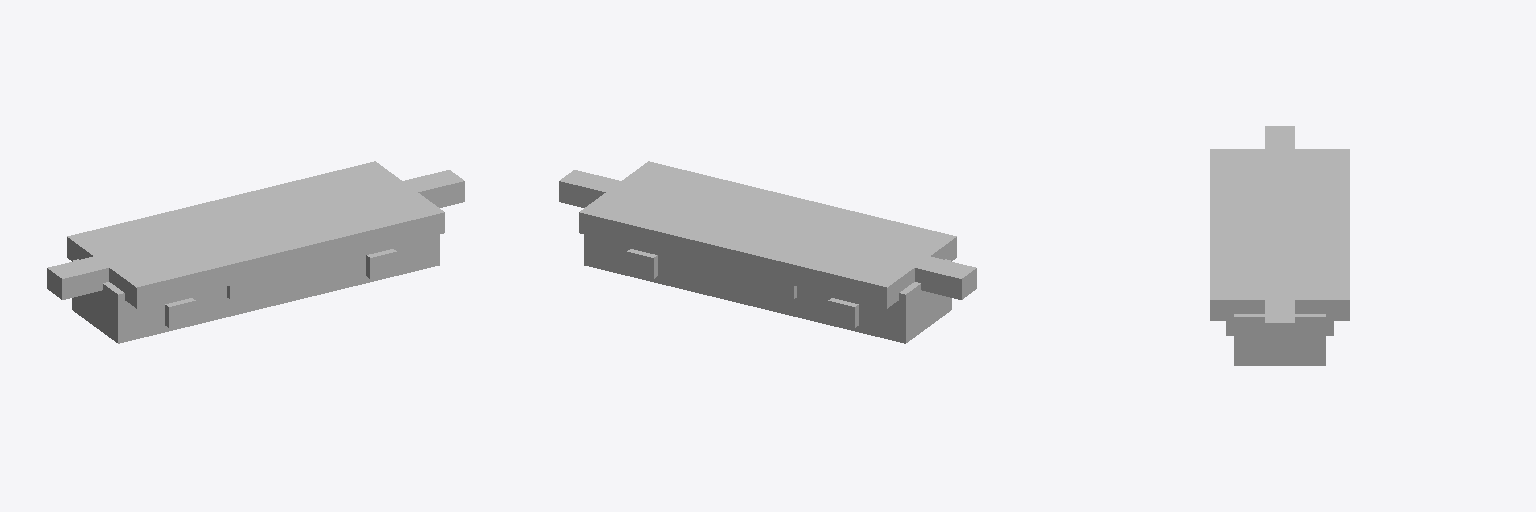
The model's file is ModelFlatCarUS.obj.
3 renders of one model, left to right at view 1: azimuth 30°, elevation 25°; view 2: azimuth 150°, elevation 25°; view 3: azimuth 270°, elevation 25°, orthographic.
Parts seen in each view (by area): view 1: box24, box2, box23, box15, box1, box12, box8; view 2: box24, box2, box23, box14, box1, box13, box; view 3: box24, box2, box1, box25, box23.
Boxes of the visible parts, <box> form: box24: <box>67,161,444,308</box>; box2: <box>72,235,439,343</box>; box23: <box>47,256,108,299</box>; box15: <box>227,256,350,299</box>; box1: <box>403,170,464,207</box>; box12: <box>165,298,195,327</box>; box8: <box>366,249,396,278</box>; box24: <box>579,161,956,308</box>; box2: <box>584,235,951,343</box>; box23: <box>915,256,976,299</box>; box14: <box>673,256,796,299</box>; box1: <box>559,170,620,207</box>; box13: <box>828,298,858,327</box>; box: <box>627,249,657,278</box>; box24: <box>1210,149,1349,320</box>; box2: <box>1234,314,1325,365</box>; box1: <box>1265,300,1294,343</box>; box25: <box>1241,314,1318,365</box>; box23: <box>1265,126,1294,148</box>.
Size of the model in its own units: 3.75 by 0.5625 by 1.12.